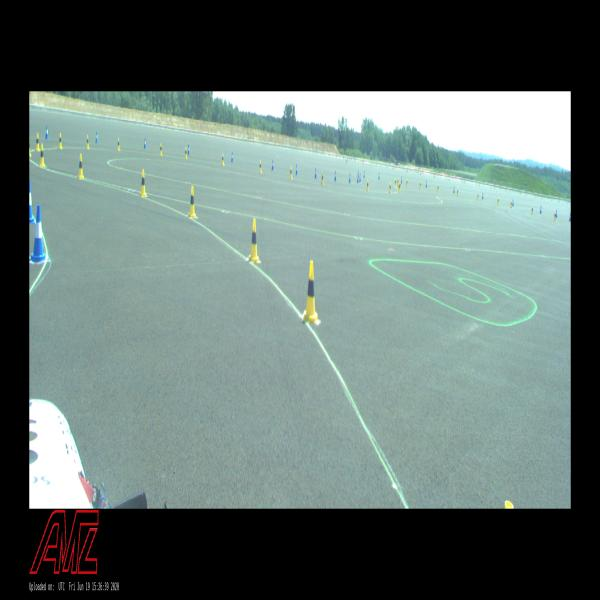blue_cone: (31, 205, 46, 262), (29, 179, 35, 223), (45, 125, 49, 140), (95, 131, 99, 144), (334, 170, 337, 182), (144, 138, 147, 148), (348, 173, 351, 183), (231, 152, 234, 162), (188, 144, 190, 155), (296, 164, 298, 175), (356, 173, 358, 184), (315, 168, 317, 178), (272, 160, 274, 170), (555, 208, 557, 218), (359, 173, 361, 182), (540, 206, 542, 214), (569, 213, 571, 221), (482, 192, 484, 200), (378, 172, 380, 180), (363, 170, 365, 178), (425, 180, 427, 188), (453, 186, 455, 193), (512, 199, 514, 206), (358, 171, 359, 180), (401, 176, 402, 183)
yellow_cone: (303, 260, 319, 323), (247, 218, 260, 263), (188, 185, 198, 219), (140, 169, 147, 197), (39, 144, 46, 168), (78, 154, 84, 180), (58, 133, 63, 149), (36, 133, 40, 151), (29, 137, 32, 156), (184, 146, 188, 160), (86, 135, 90, 149), (159, 143, 163, 156), (289, 166, 293, 179), (117, 138, 121, 150), (259, 160, 262, 173), (321, 172, 324, 185), (366, 179, 369, 191), (389, 182, 392, 193), (222, 152, 224, 166), (394, 178, 397, 187), (398, 182, 400, 193), (532, 205, 534, 214), (397, 177, 399, 186), (419, 180, 421, 188), (456, 188, 458, 196), (497, 197, 499, 205), (406, 178, 408, 186), (437, 184, 439, 192), (554, 212, 556, 220), (510, 200, 512, 208), (477, 193, 479, 200), (400, 180, 401, 190)
